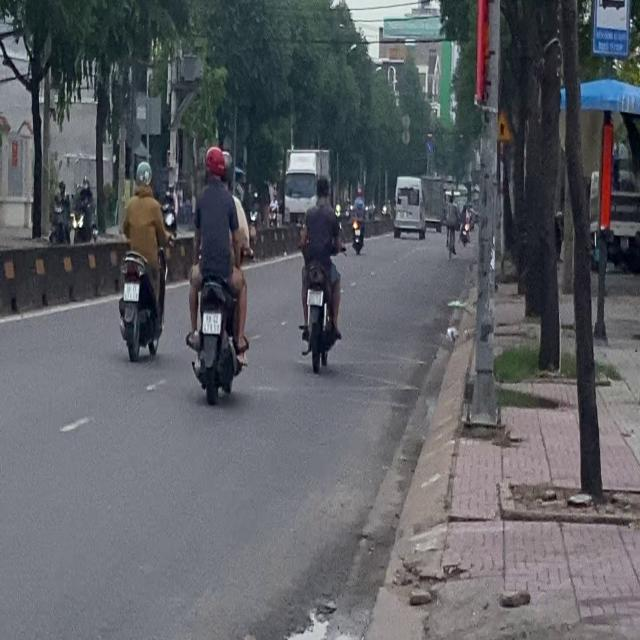helmet: (203, 145, 226, 183), (133, 160, 152, 192)
licenseplate: (183, 143, 251, 403), (117, 159, 167, 360), (296, 172, 344, 370)
motorcyclist: (314, 174, 330, 202)
nohelmet: (202, 311, 220, 333), (123, 282, 139, 300), (308, 289, 322, 304)
